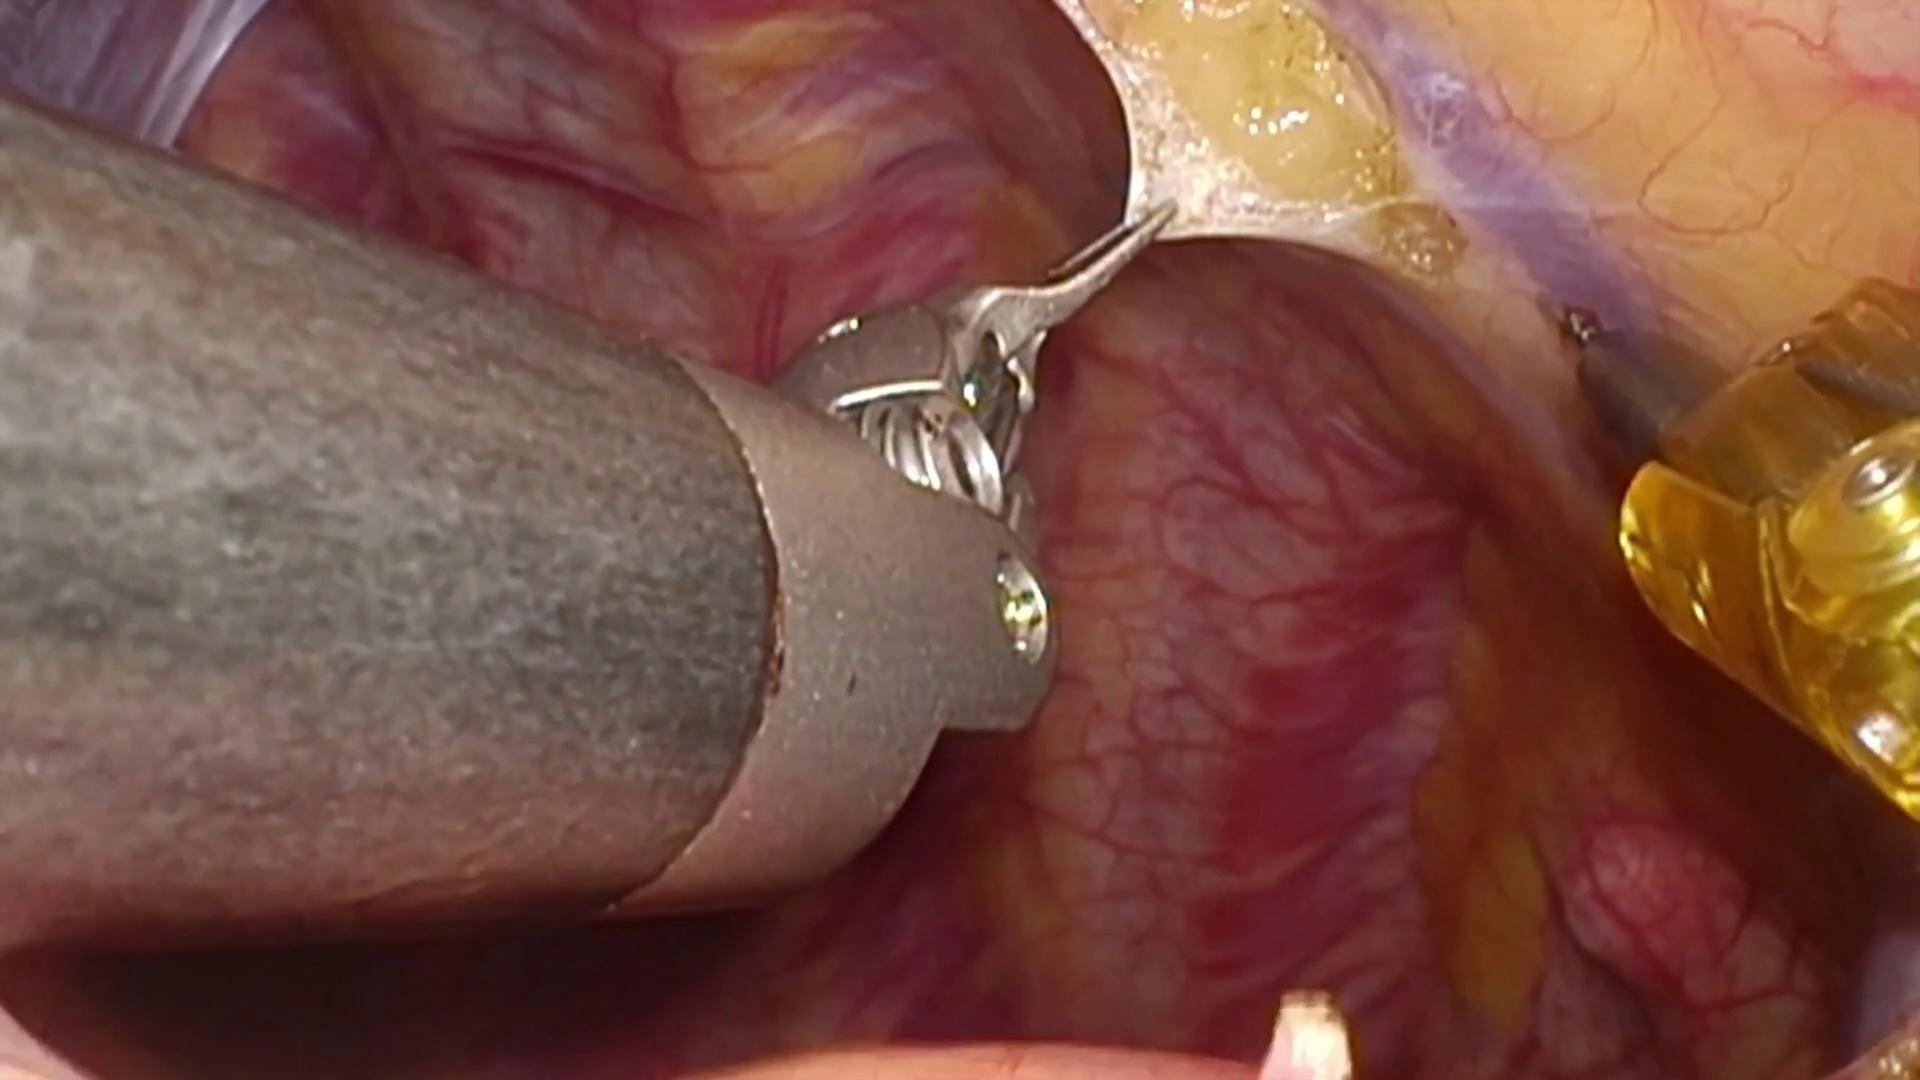Cautery_Spatula: (1520, 278, 1731, 448), (1520, 273, 1614, 363)
Debakey: (936, 194, 1183, 385)
